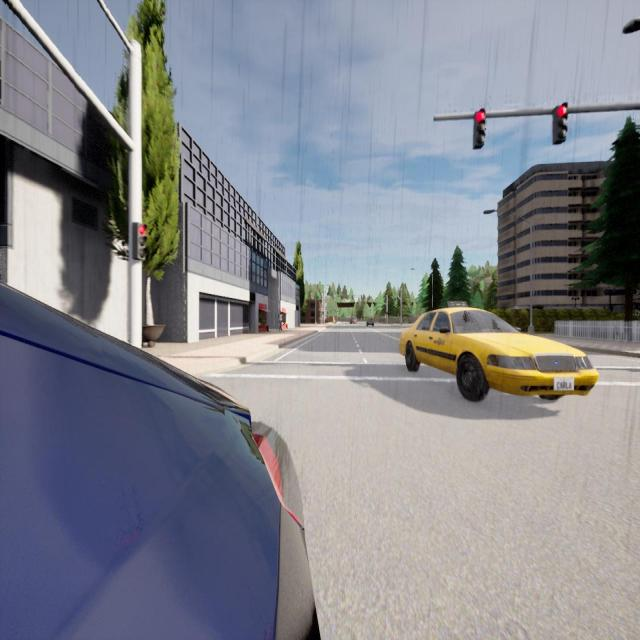Pedestrian: (278, 311, 283, 332)
Vehicle: (0, 284, 320, 640), (399, 307, 597, 401), (366, 318, 374, 327), (349, 316, 357, 324)
traffic_light: (552, 102, 568, 144), (132, 222, 148, 261), (473, 109, 486, 150), (361, 295, 362, 299), (352, 295, 353, 299), (341, 296, 342, 300)
